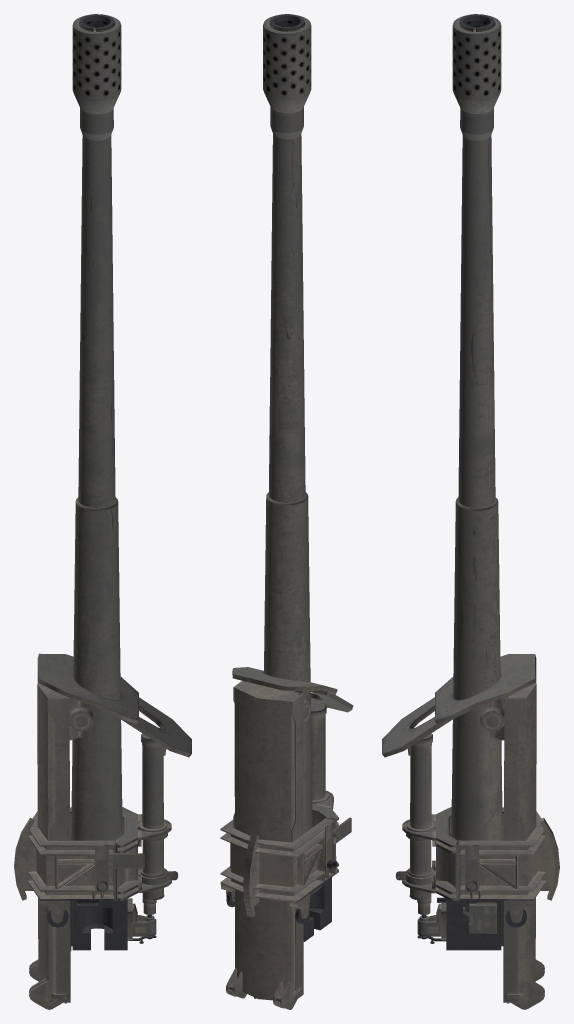
The model's file is Gun_01.glb.
The picture shows the model from 3 angles, left to right: view 1: azimuth 90°, elevation 25°; view 2: azimuth 150°, elevation 25°; view 3: azimuth 270°, elevation 25°; orthographic projection.
Visible parts, largest first — view 1: set_0_group_0; view 2: set_0_group_0; view 3: set_0_group_0.
Part boxes in pixels (x1,y1,x2,y2): set_0_group_0: (14,14,191,1009); set_0_group_0: (220,14,353,1009); set_0_group_0: (382,14,559,1009).
Bounding box in the file's own units: 0.9363 × 9.63 × 1.59.
1 material, 1 textured.
